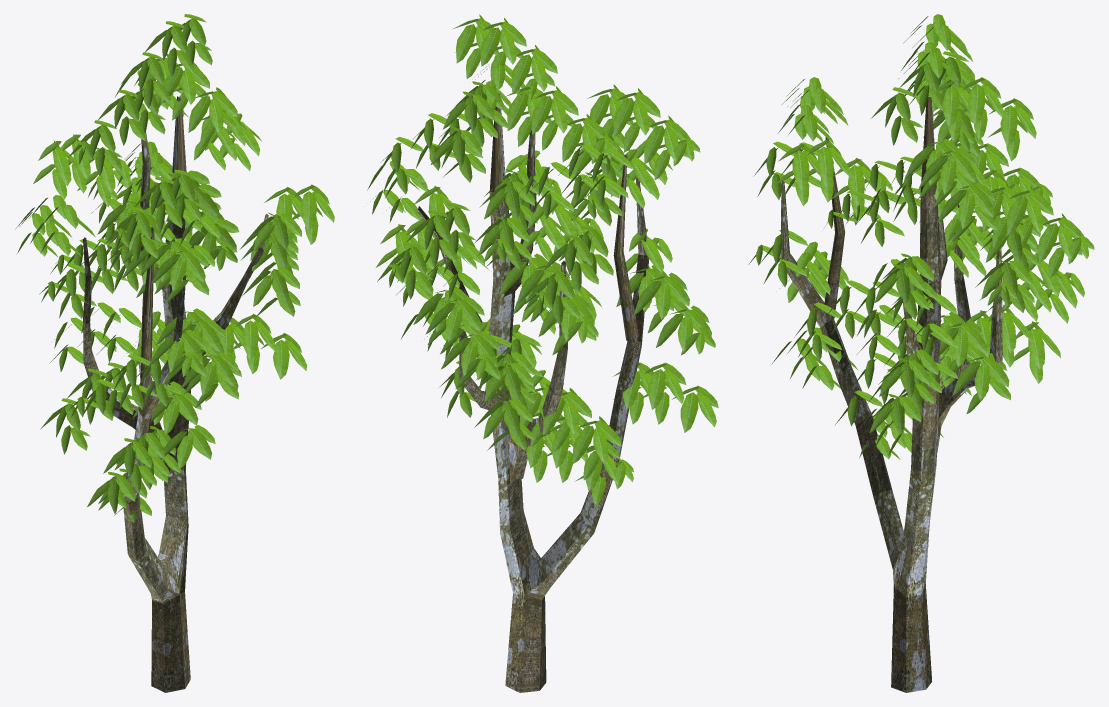
Rendered from cay-ngoc-lan.glb.
3 renders of one model, left to right at view 1: azimuth 30°, elevation 25°; view 2: azimuth 150°, elevation 25°; view 3: azimuth 270°, elevation 25°, orthographic. The views are drawn at different scales.
Visible parts, largest first — view 1: CayNgocLan01; view 2: CayNgocLan01; view 3: CayNgocLan01.
Boxes of the visible parts, x1=… form: CayNgocLan01: x1=15, y1=14, x2=334, y2=692; CayNgocLan01: x1=367, y1=14, x2=718, y2=692; CayNgocLan01: x1=748, y1=14, x2=1094, y2=692.
Size of the model in its own units: 7.32 by 15.15 by 7.05.
Materials: 1 (1 with a texture image).
